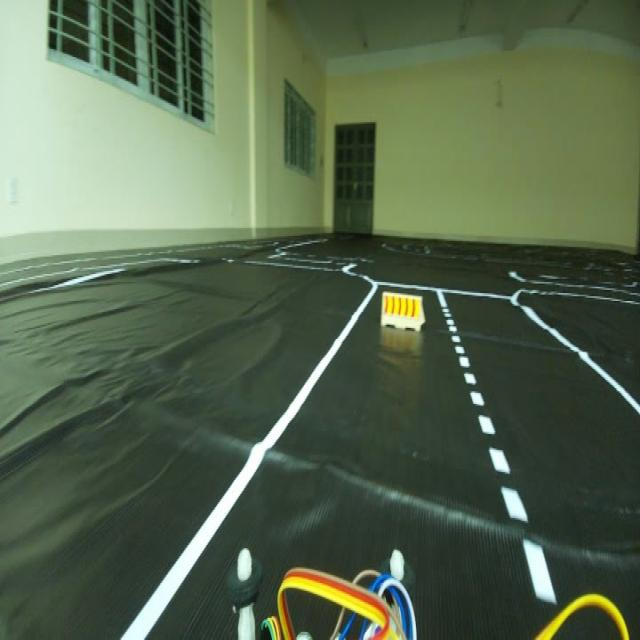roadblock: (378, 294, 432, 332)
